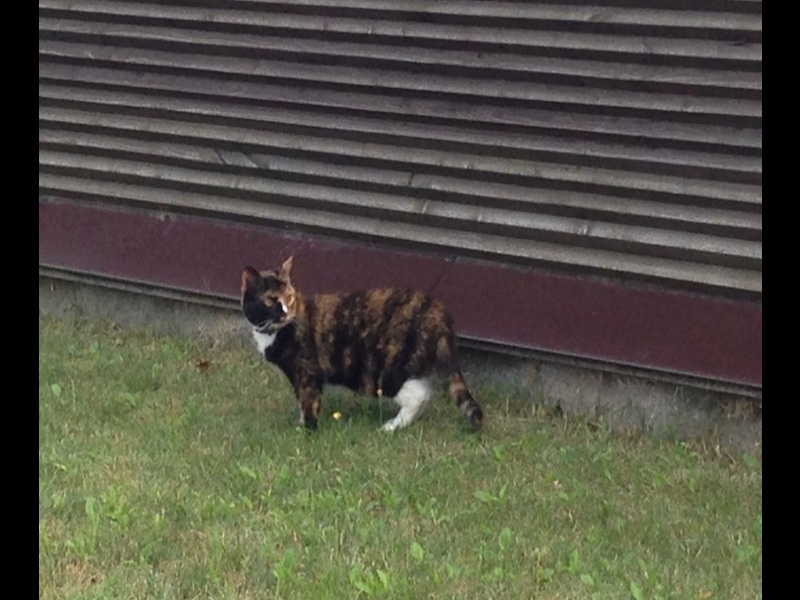cat: (234, 259, 493, 445)
